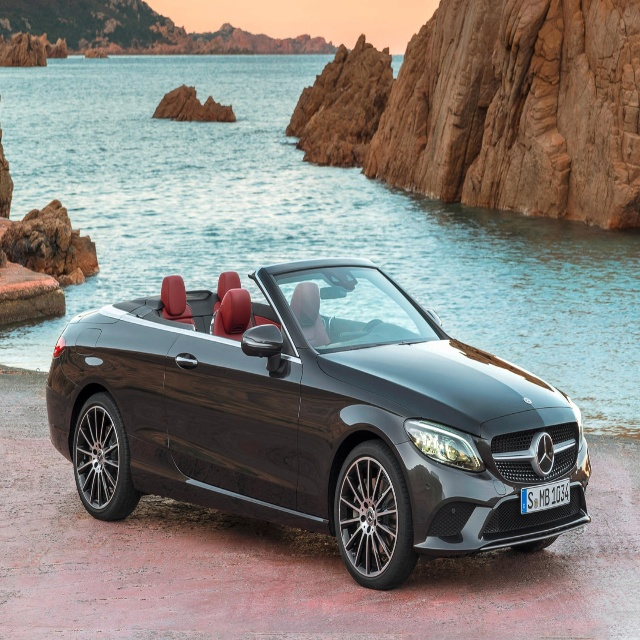Car: (47, 258, 592, 591)
